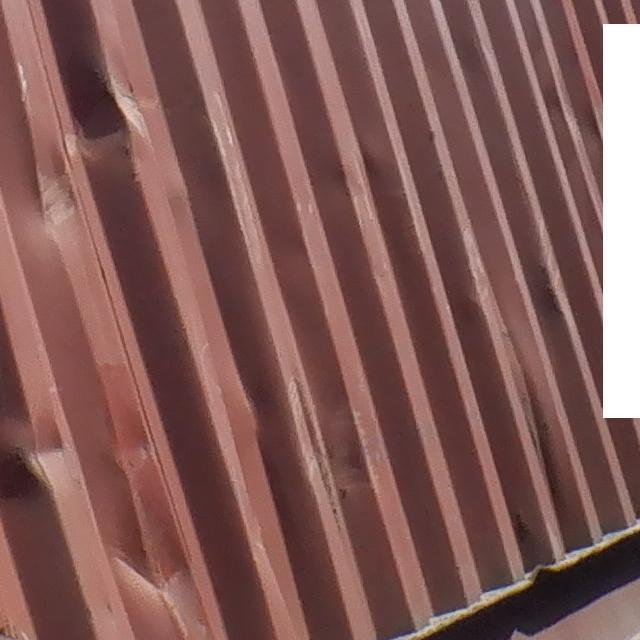dent: (14, 366, 227, 620), (1, 74, 201, 255)
